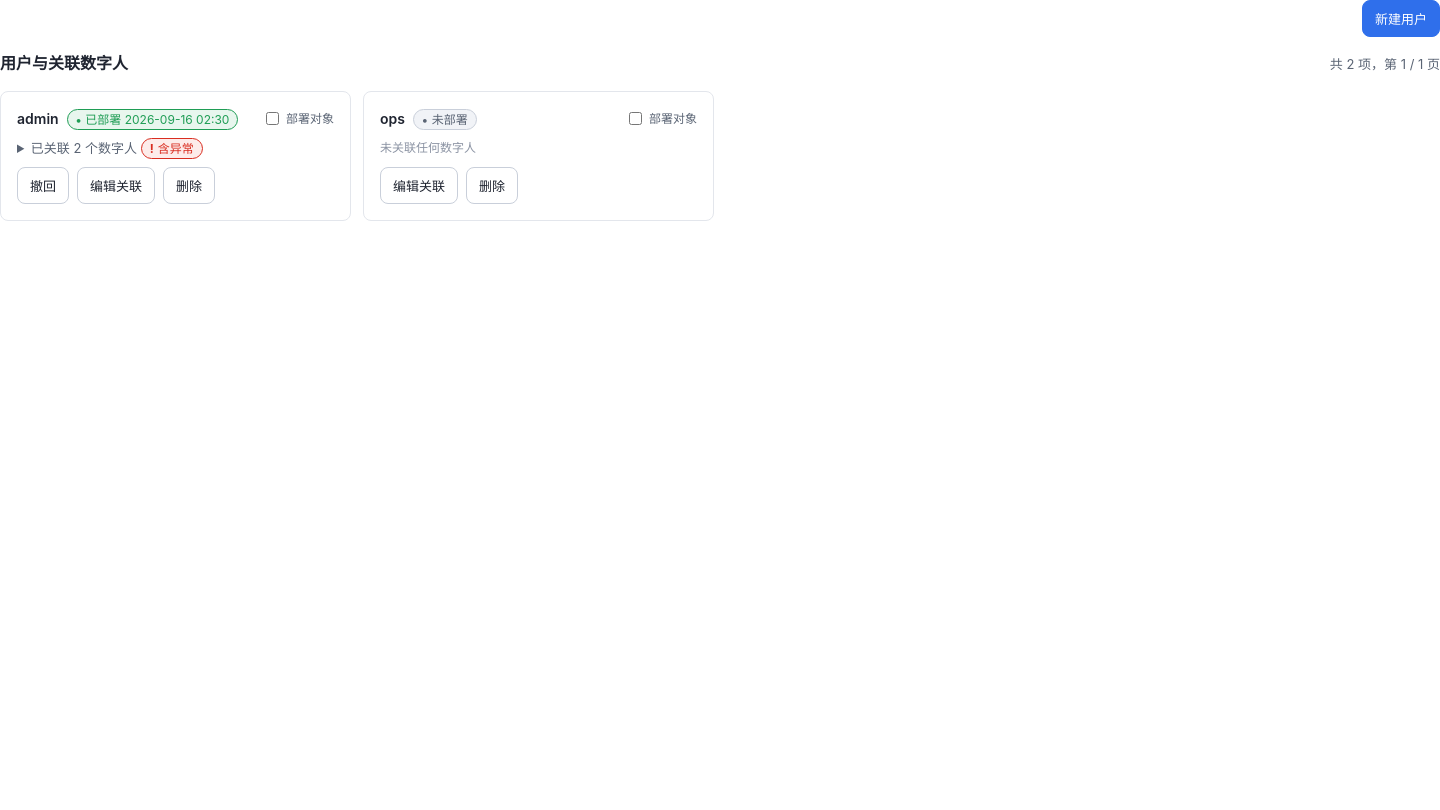
Test: UserCardList —— 撤回部署（2026-09-16） › 撤回需二次确认，并讲明"数字人将失去能力 + 文件空间保留"
Click the button "撤回".
click(43, 186)  # box [17,167,69,204]
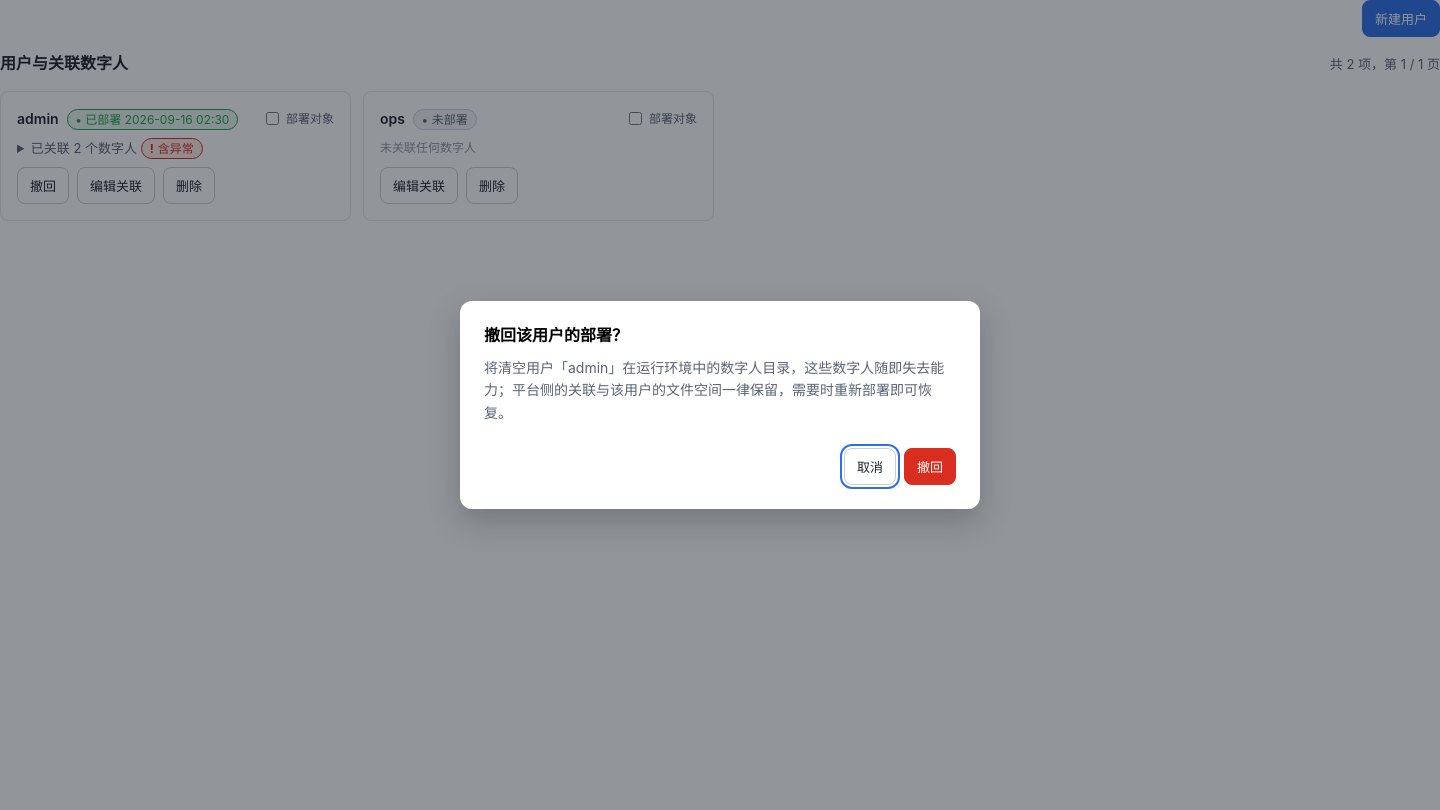
Now the dialog with test id "withdraw-dialog" shows "失去能力", box [484,359,944,421]
Now the dialog with test id "withdraw-dialog" shows "文件空间", box [484,359,944,421]
